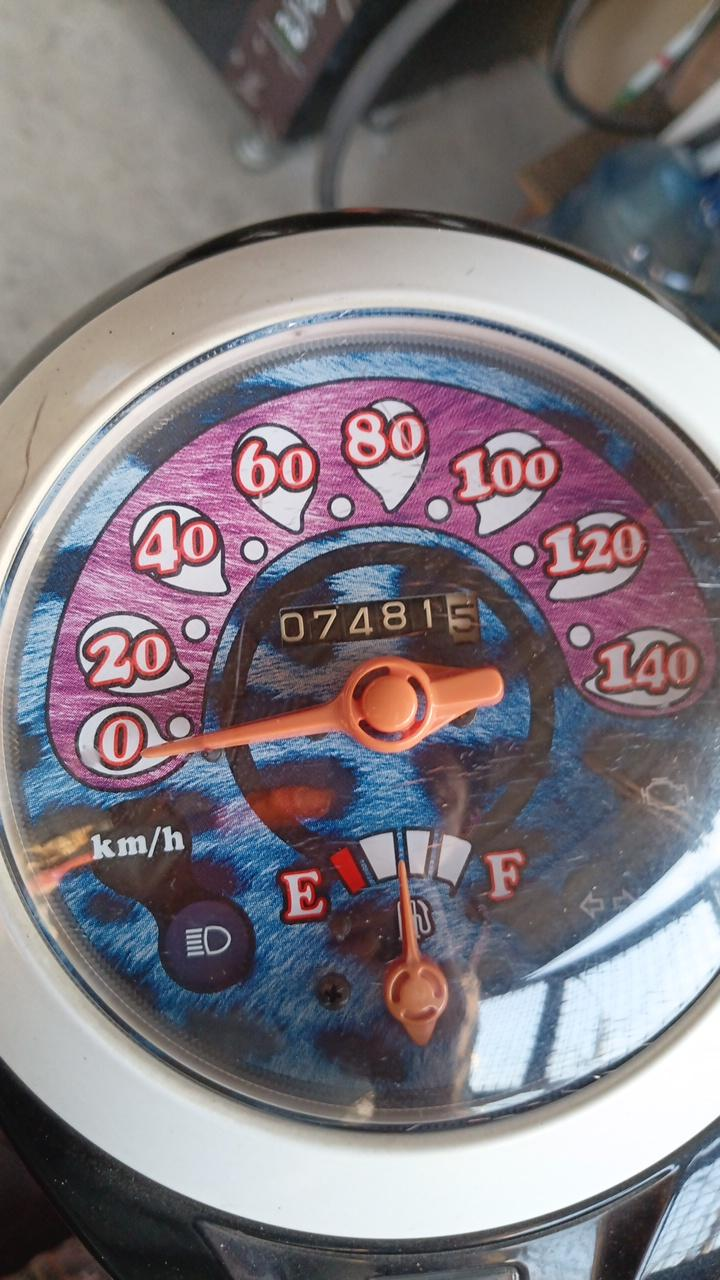0: (279, 612, 305, 643)
1: (422, 598, 434, 630)
4: (349, 607, 373, 638)
5: (449, 600, 476, 635)
7: (313, 608, 336, 642)
8: (381, 600, 407, 631)
odometer: (275, 589, 482, 654)
